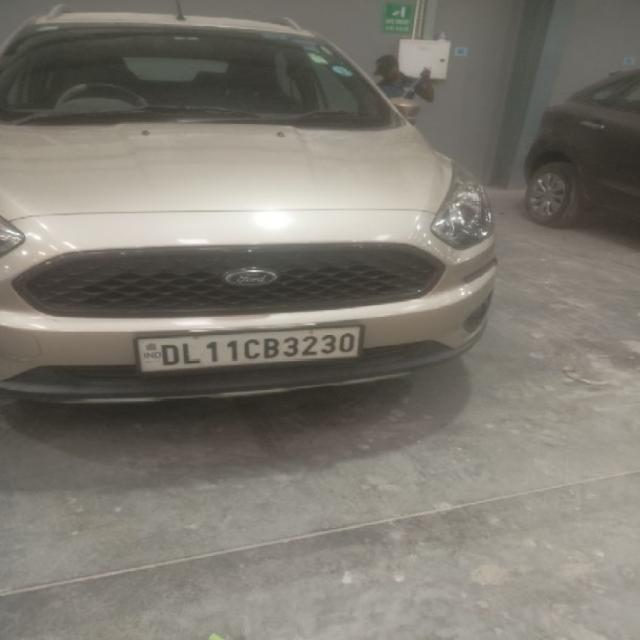license_plate: (133, 324, 363, 375)
